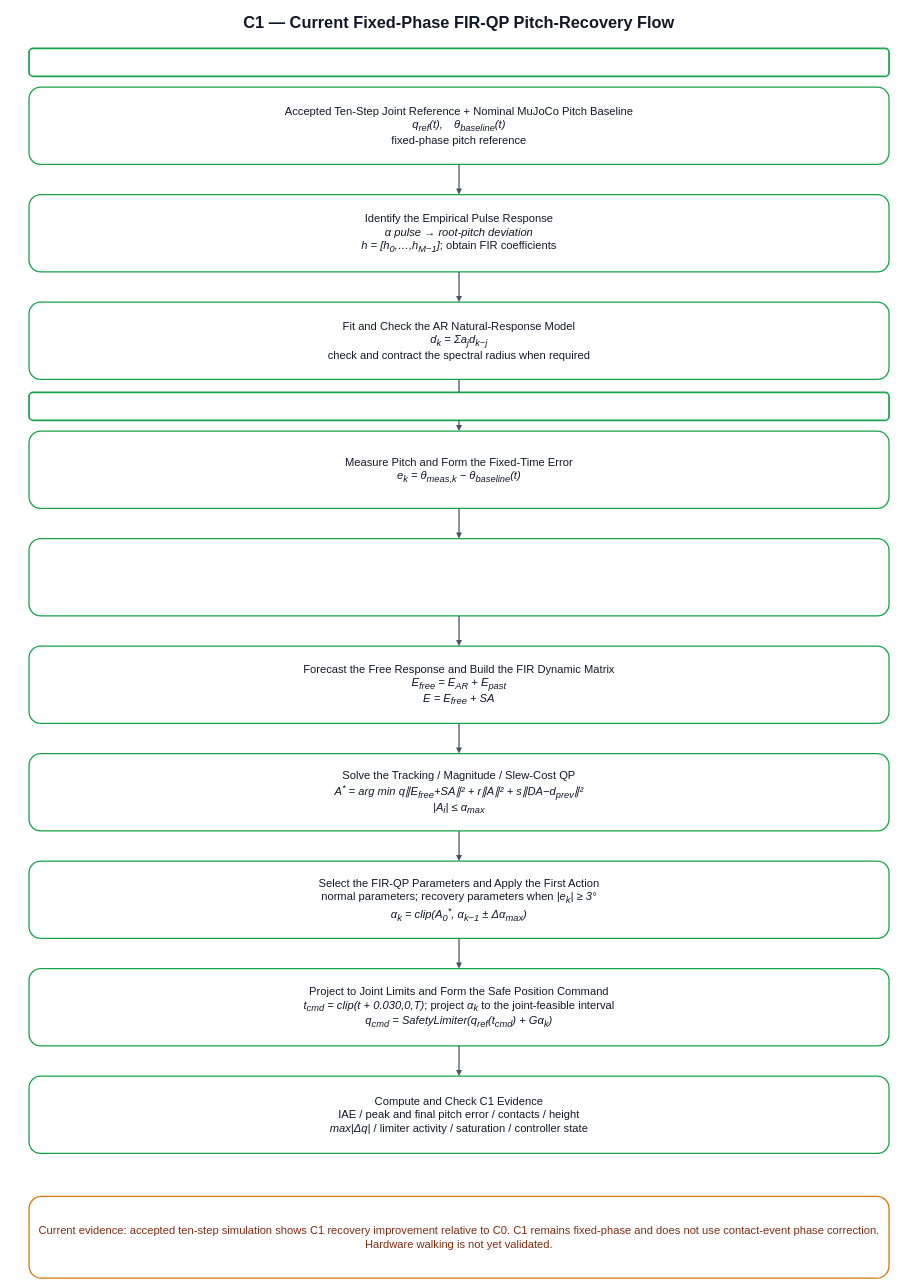
Image size: 918x1286. Some labels were removed from this diagram. Here are the shapes that lost their labels. From the top down, the centre of each, then its label:
At (459,62): "Offline Identification".
At (459,406): "Online Fixed-Phase FIR-QP + Safety".
At (458,577): "Remove the Known Delayed Response of Past Commands d k = e k − Σh i α k−i".
